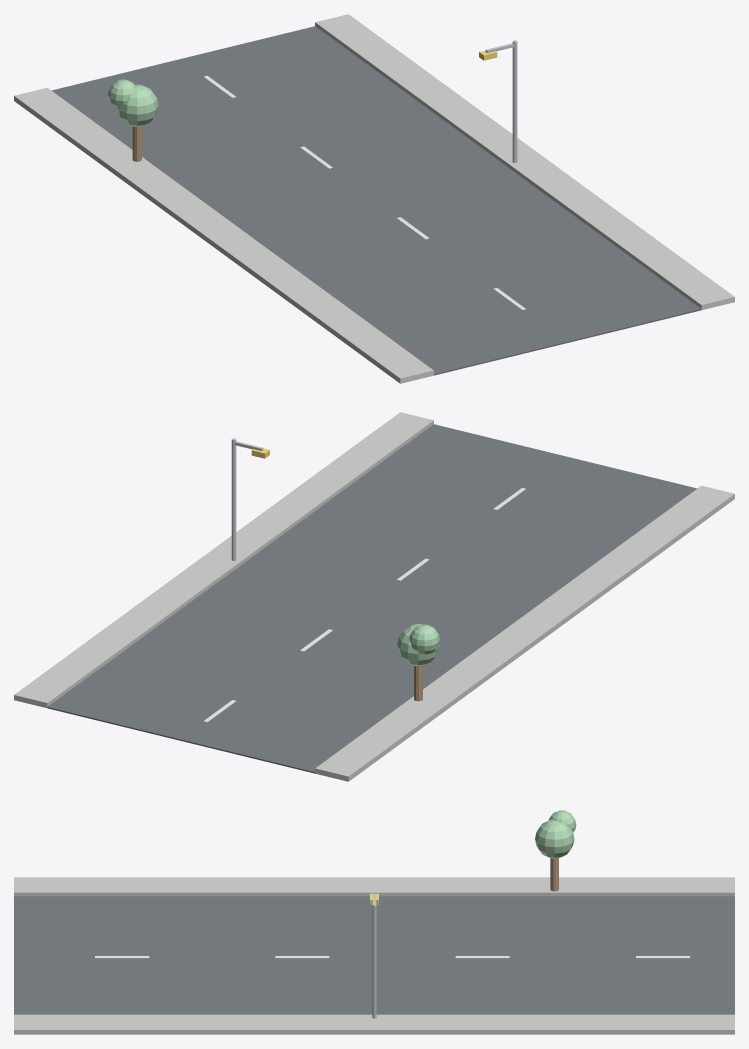
File: street_kit.glb
The picture shows the model from 3 angles, top to bottom: view 1: azimuth 30°, elevation 25°; view 2: azimuth 150°, elevation 25°; view 3: azimuth 270°, elevation 25°; orthographic projection. The views are drawn at different scales.
Parts seen in each view (by area): view 1: road, sidewalk_-4.5, sidewalk_4.5, tree_crown_1, lamp_pole; view 2: road, sidewalk_-4.5, sidewalk_4.5, tree_crown_1, tree_crown_2, lamp_pole; view 3: road, sidewalk_4.5, sidewalk_-4.5, tree_crown_1, lamp_pole.
Boxes of the visible parts, <box> form: road: <box>51,26,701,375</box>; sidewalk_-4.5: <box>14,87,433,383</box>; sidewalk_4.5: <box>315,14,734,309</box>; tree_crown_1: <box>116,84,158,126</box>; lamp_pole: <box>512,40,517,162</box>; road: <box>47,424,697,773</box>; sidewalk_-4.5: <box>315,485,734,781</box>; sidewalk_4.5: <box>14,412,433,707</box>; tree_crown_1: <box>397,624,439,666</box>; tree_crown_2: <box>409,624,439,654</box>; lamp_pole: <box>231,438,236,560</box>; road: <box>14,896,734,1014</box>; sidewalk_4.5: <box>14,1014,734,1034</box>; sidewalk_-4.5: <box>14,877,734,896</box>; tree_crown_1: <box>535,820,574,858</box>; lamp_pole: <box>372,904,376,1018</box>.
Size of the model in its own units: 10 by 3.6 by 20.
